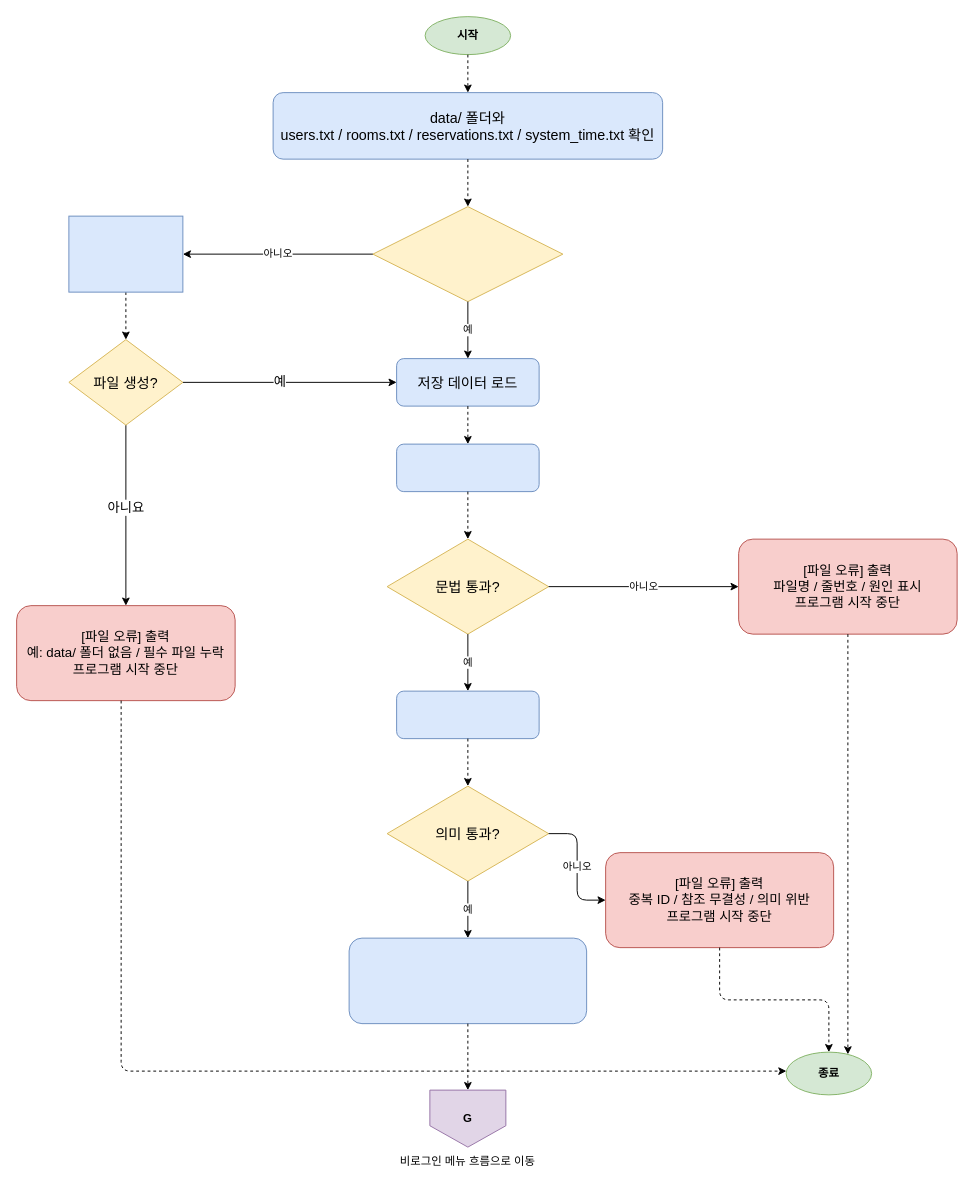
The diagram is 974 pixels wide and 1192 high, and some of its shapes have lost their labels. The shapes that lost their labels are listed below. From the top down, each one's centre as x and y in pixels, then its label:
At (x=125, y=253): "초기 파일 생성".
At (x=467, y=254): "필수 항목 모두 존재?".
At (x=467, y=467): "문법 검사".
At (x=467, y=714): "의미 검사".
At (x=467, y=980): "상태 자동 갱신 RESERVED -> NO_SHOW CHECKED_IN -> COMPLETED".
